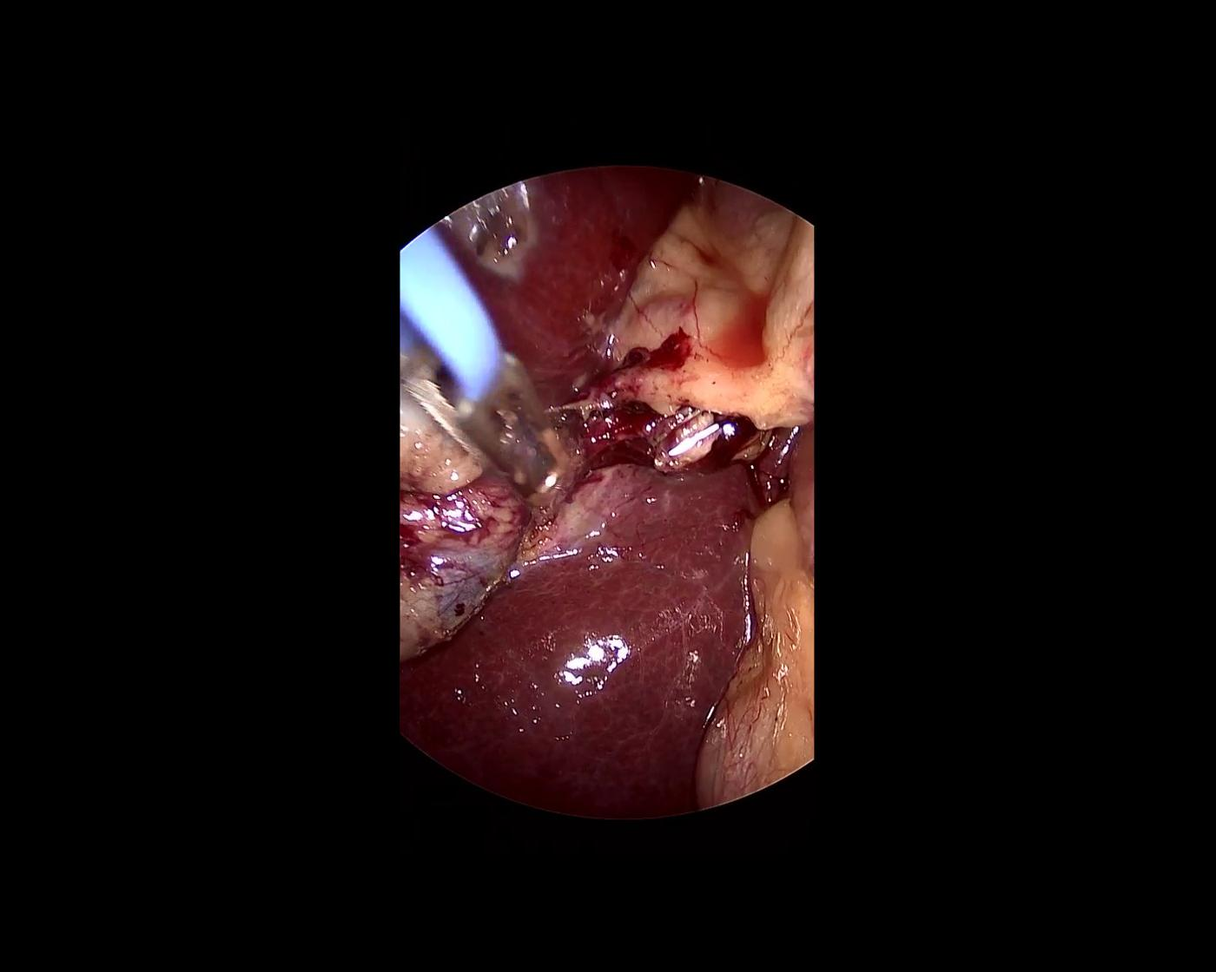Allis: (336, 221, 589, 537)
Gallbladder: (398, 386, 529, 661)
Liver: (395, 452, 757, 818), (389, 76, 696, 411)
